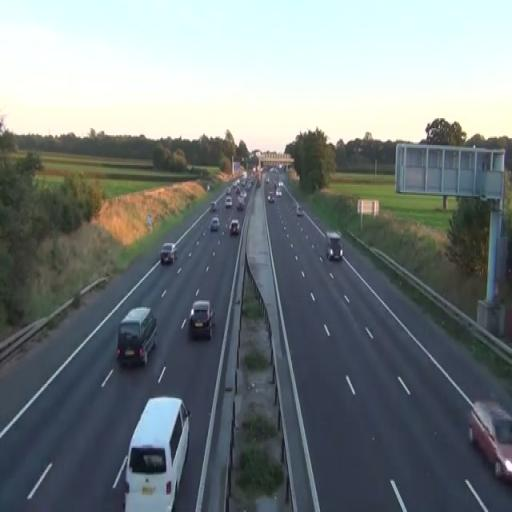Car: (124, 396, 190, 510), (468, 400, 512, 484), (116, 308, 158, 368), (189, 300, 214, 340), (160, 242, 178, 264), (236, 195, 246, 212), (210, 216, 220, 232), (230, 220, 239, 237), (226, 195, 232, 209)
Truck: (116, 306, 158, 368)
